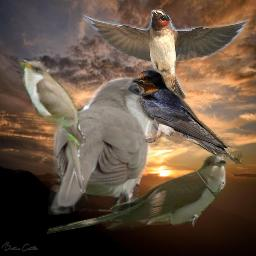Cuckoo: (48, 77, 174, 215), (46, 153, 227, 236), (14, 56, 89, 195)
Swallow: (80, 9, 250, 104), (131, 69, 245, 167)
